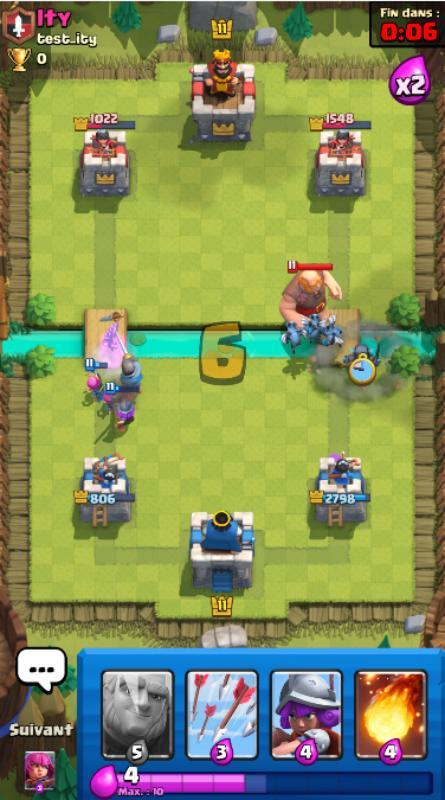archere: (83, 359, 109, 404), (97, 379, 120, 416)
chevalier: (115, 330, 144, 397)
gargouille: (279, 321, 307, 355), (318, 314, 344, 349), (302, 312, 327, 344)
geant: (275, 260, 344, 335)
mini_PEKKA: (343, 342, 383, 374)
mousquetaire: (105, 382, 137, 432)
